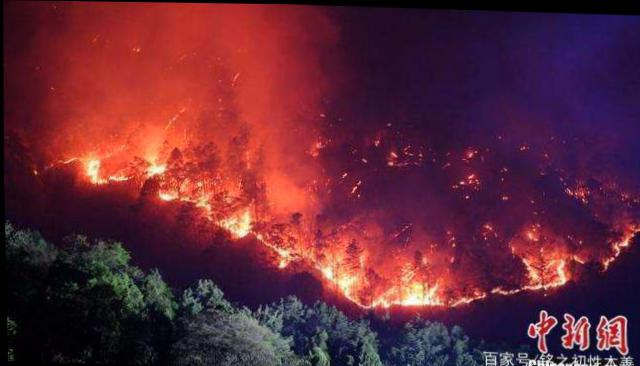fire: (46, 93, 634, 316)
